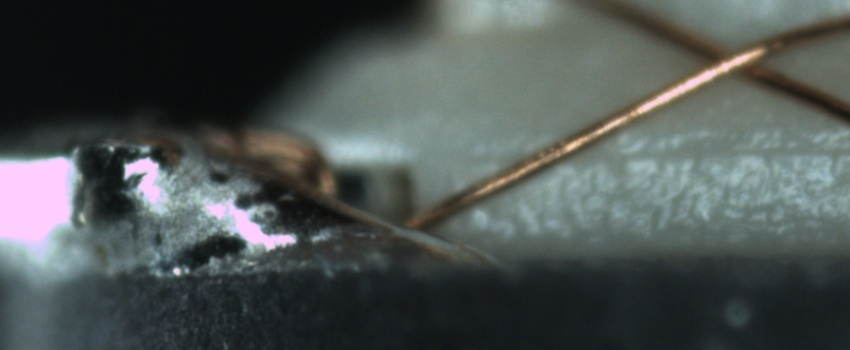CL: (676, 23, 786, 90)
DL: (456, 125, 850, 189)
TE: (204, 120, 344, 206)
